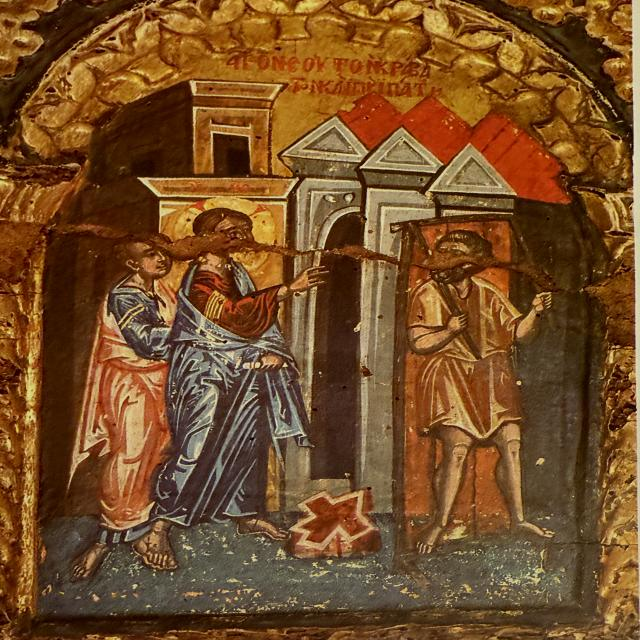aura: (171, 197, 277, 272)
christ: (168, 191, 295, 553)
scroll: (241, 354, 292, 376)
